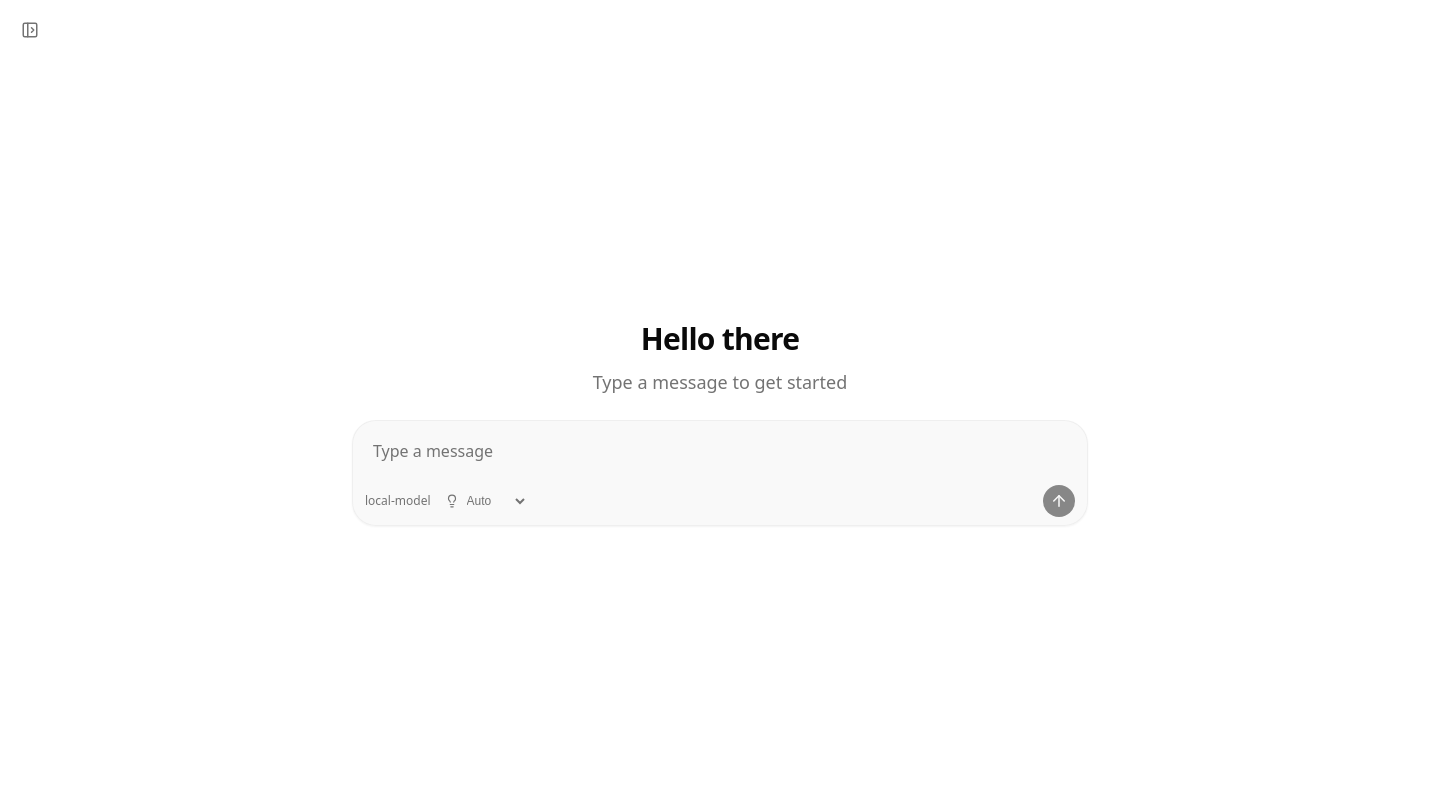
on a narrow screen, choosing a conversation, or a new chat, closes the drawer
The width and height of the screenshot is (1440, 810).
Step 1. Click the button named "Open the sidebar" → (30, 30), box left=12, top=12, right=48, bottom=48
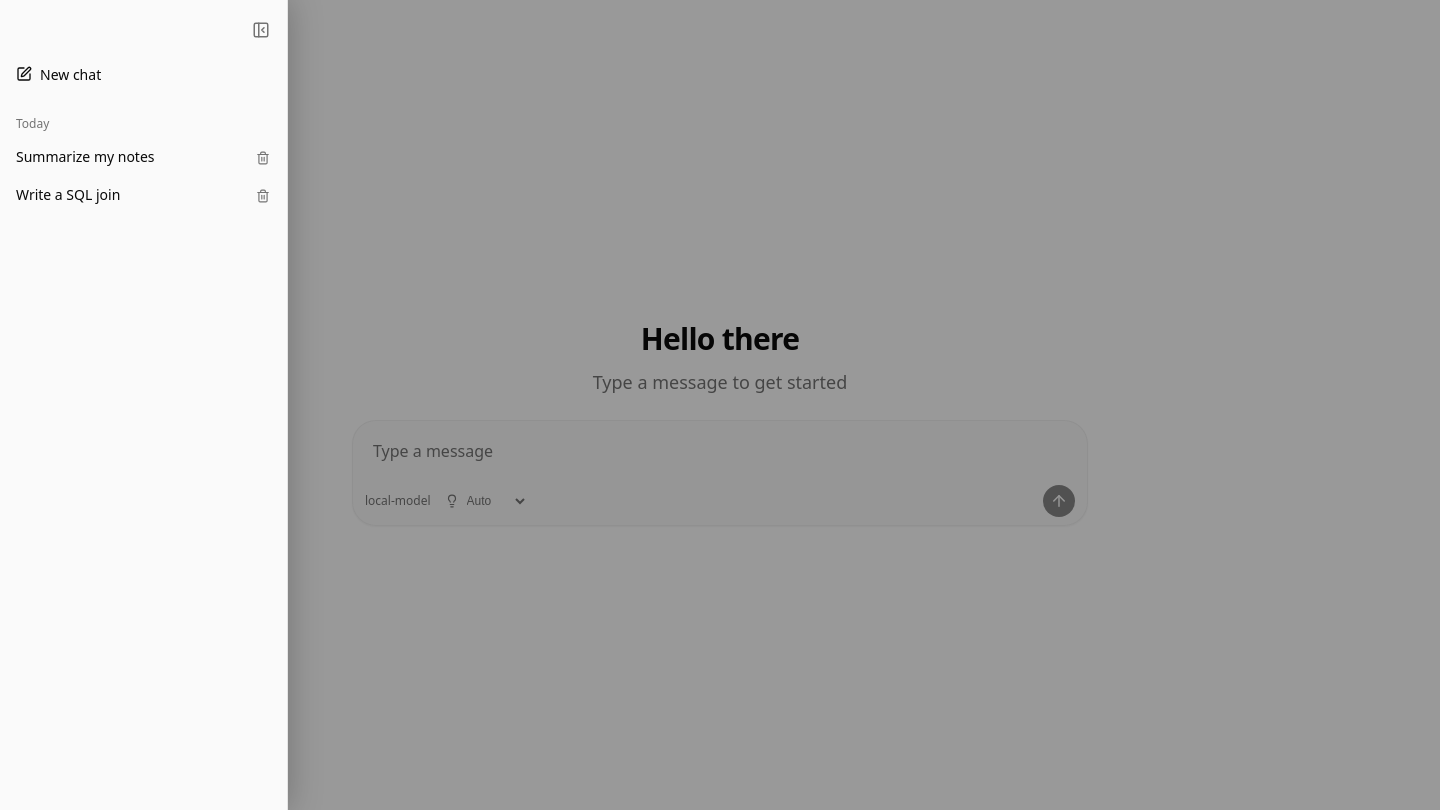
Step 2. Click the link "Summarize my notes" → (85, 156), box left=16, top=147, right=154, bottom=166
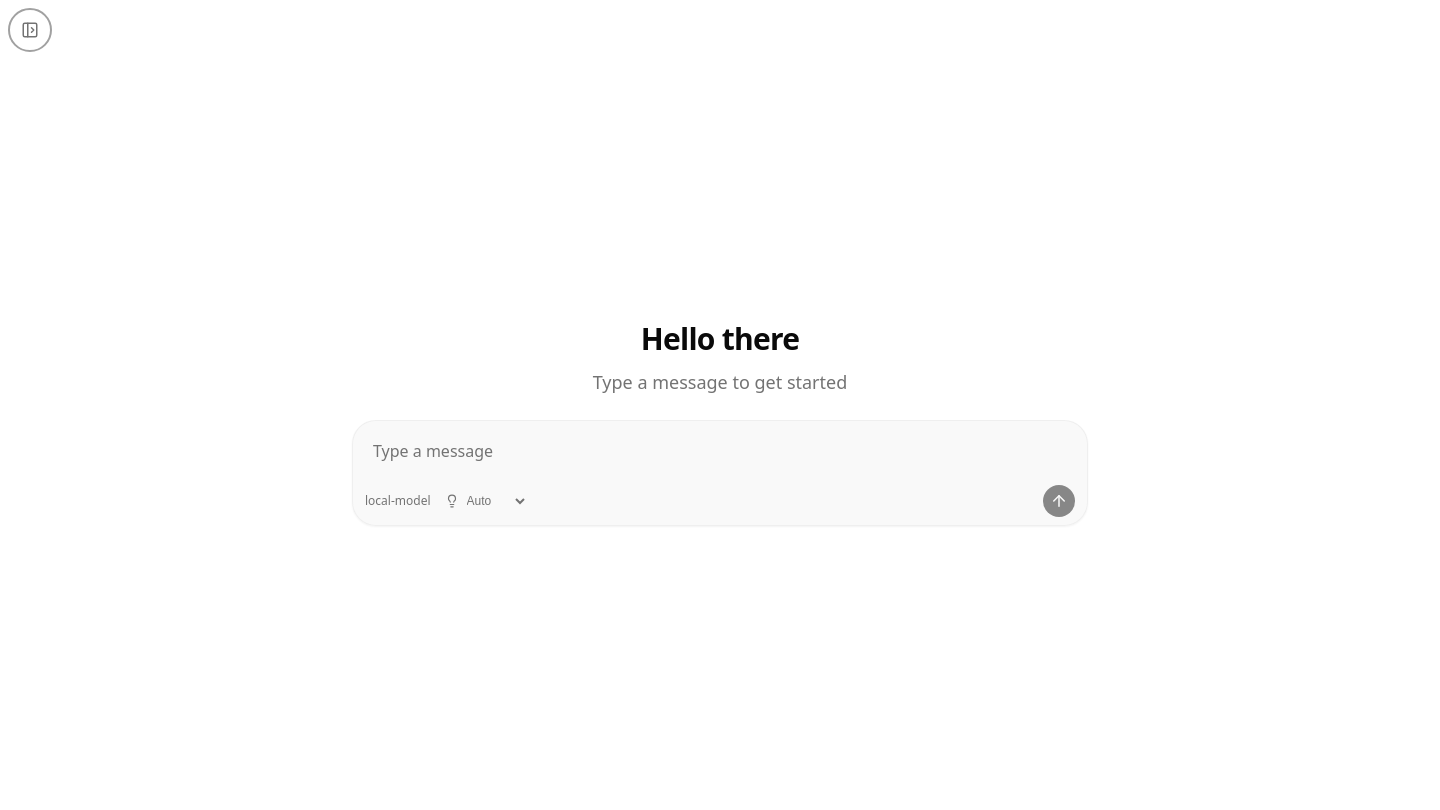
Now the navigation bar is gone
Step 3. Click the button named "Open the sidebar" → (30, 30), box left=12, top=12, right=48, bottom=48
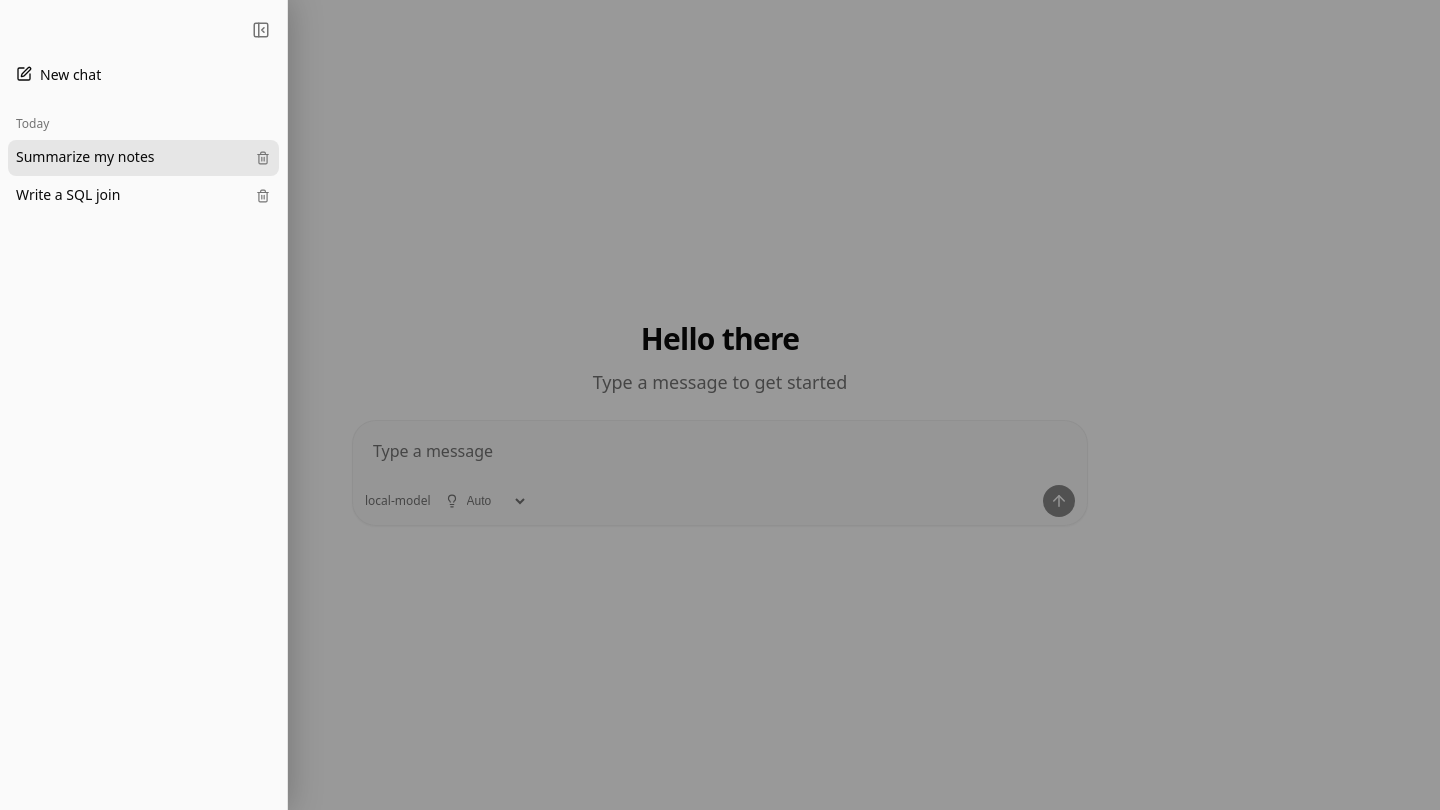
Step 4. Click the link "New chat" → (59, 74), box left=16, top=64, right=101, bottom=84
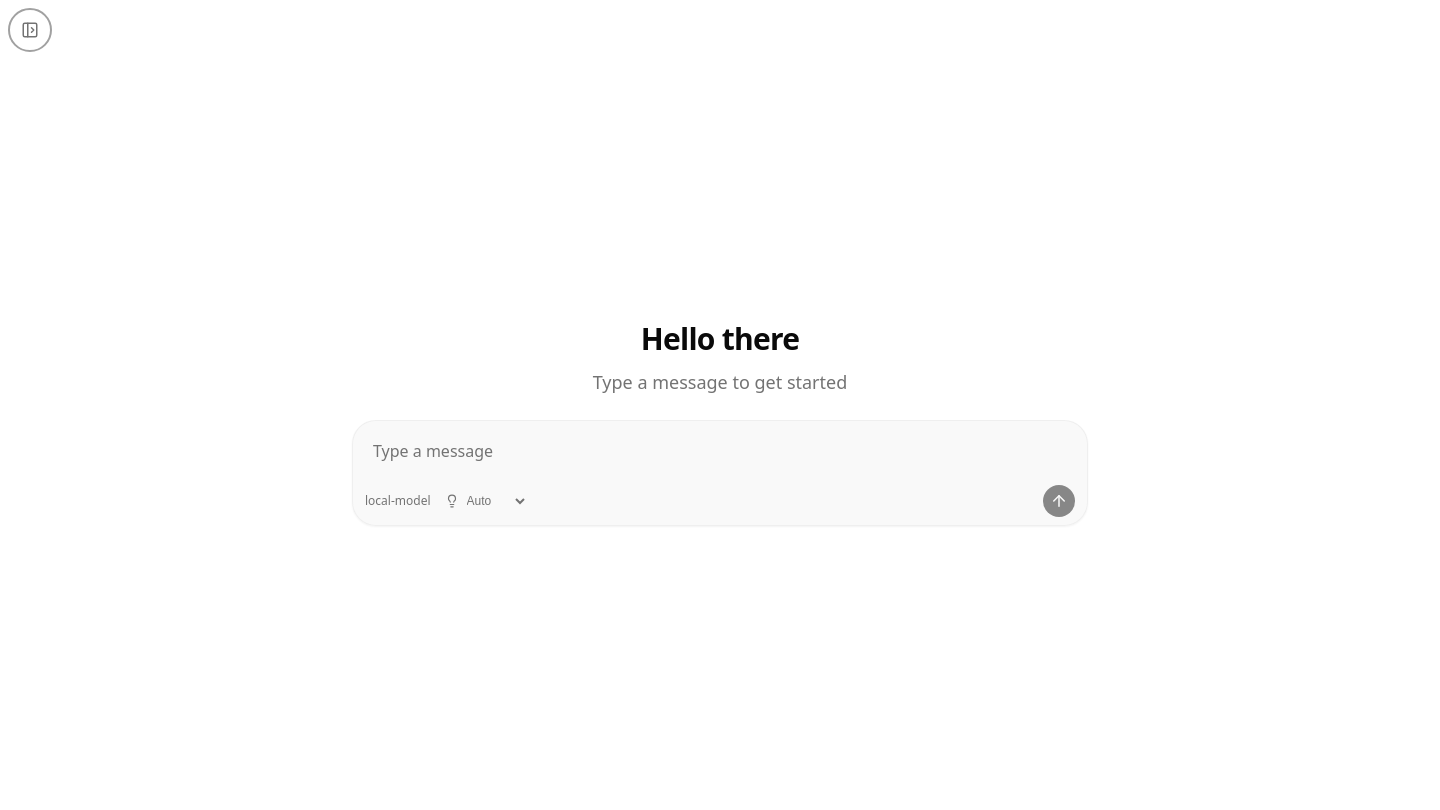
Expected: the heading "Hello there" is shown, left=641, top=318, right=799, bottom=359
Now the navigation bar is gone
